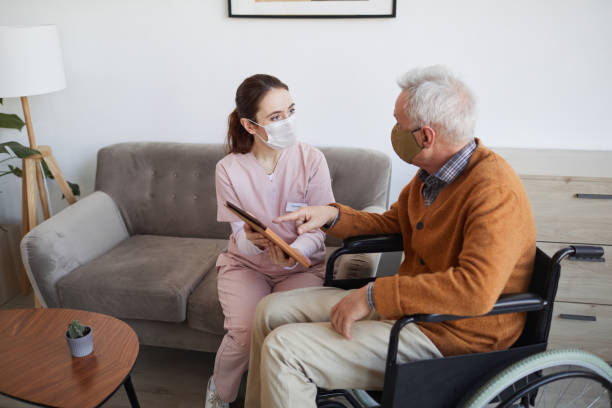with mask: (384, 88, 445, 167), (248, 80, 300, 153)
